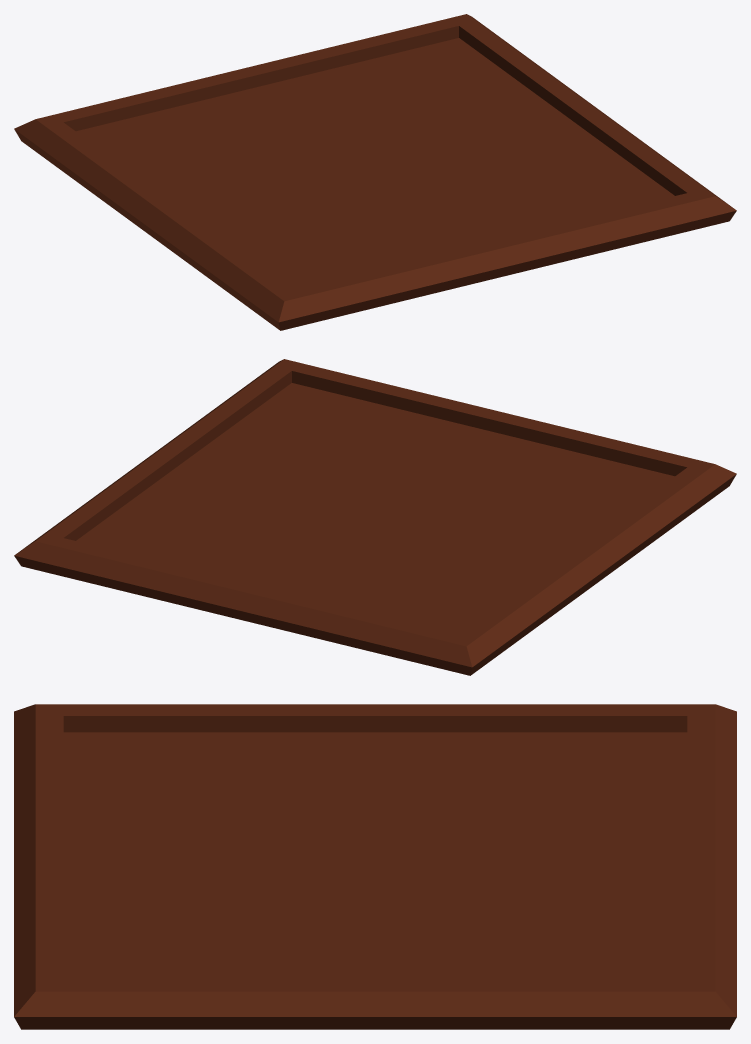
Rendered from Floor20.fbx.
3 views of the same model, one above another, from view 1: azimuth 30°, elevation 25°; view 2: azimuth 150°, elevation 25°; view 3: azimuth 270°, elevation 25° (orthographic). The views are drawn at different scales.
Parts seen in each view (by area): view 1: Plane.366; view 2: Plane.366; view 3: Plane.366.
Boxes of the visible parts, bbox=[...] form: Plane.366: bbox=[14, 14, 736, 330]; Plane.366: bbox=[14, 359, 736, 675]; Plane.366: bbox=[14, 704, 736, 1029].
Bounding box in the file's own units: 4000 × 200 × 4000.
